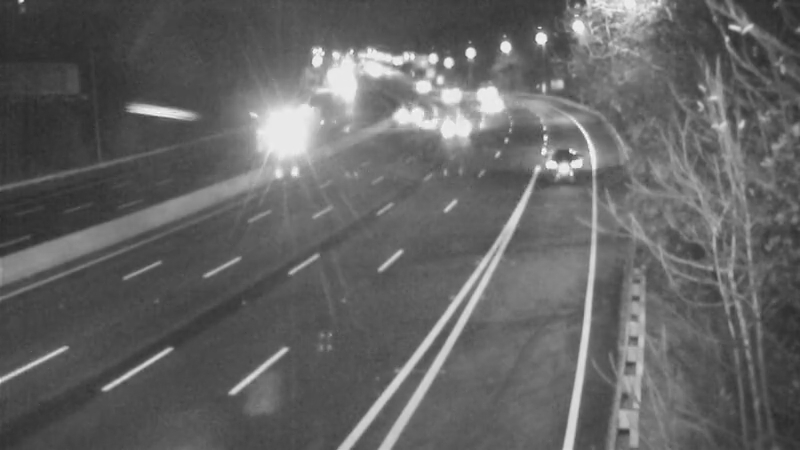vehicle: (524, 123, 604, 203), (396, 65, 446, 115), (460, 72, 510, 122), (425, 70, 475, 120), (467, 79, 517, 129), (371, 91, 421, 141), (396, 95, 446, 145), (429, 99, 479, 149), (264, 100, 314, 150)
